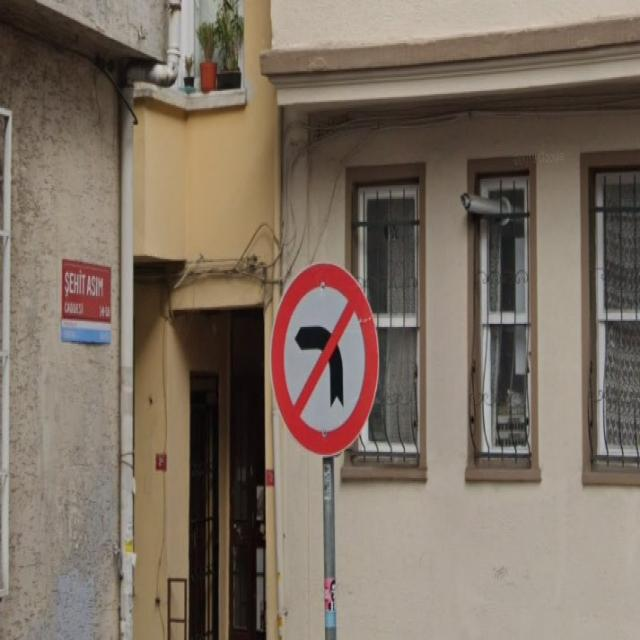soladonulmez: (271, 262, 379, 455)
